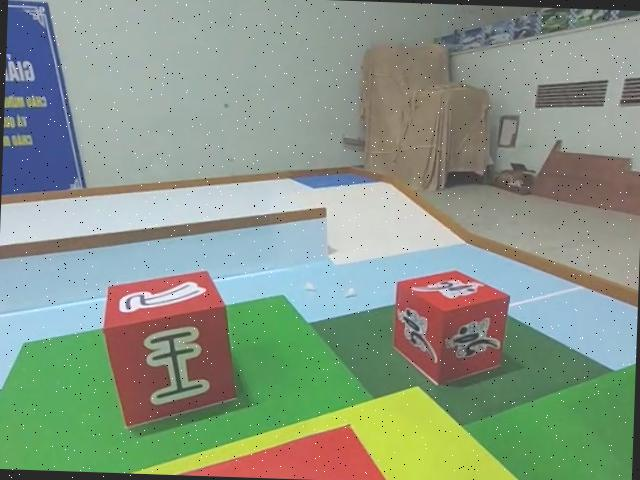R1: (389, 263, 516, 390)
R2 Fake: (96, 263, 245, 436)
